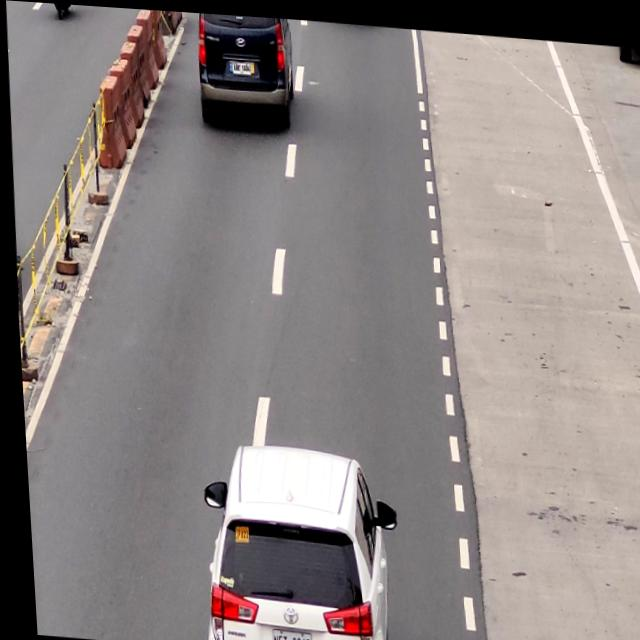Car: (189, 435, 388, 640), (194, 10, 297, 124)
License-Plate: (261, 621, 306, 640), (227, 54, 254, 74)
